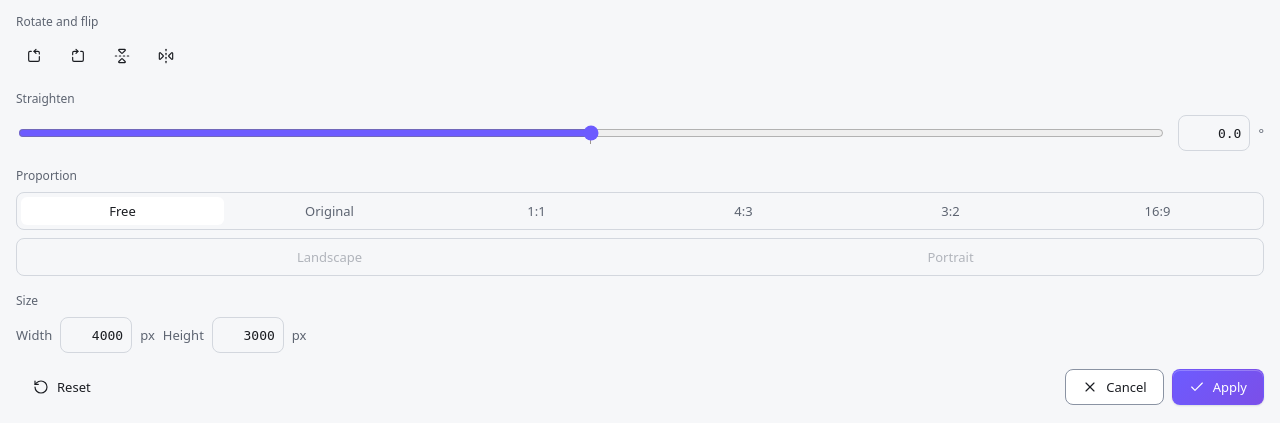
Test: CropRotateControls (SCR-03 panel) › checks a typed angle only on leave or Enter; Enter never applies the tool (AC-07)
Replace the text in the 1st field with "99" at x=1214, y=133, box [1178,115,1250,151]
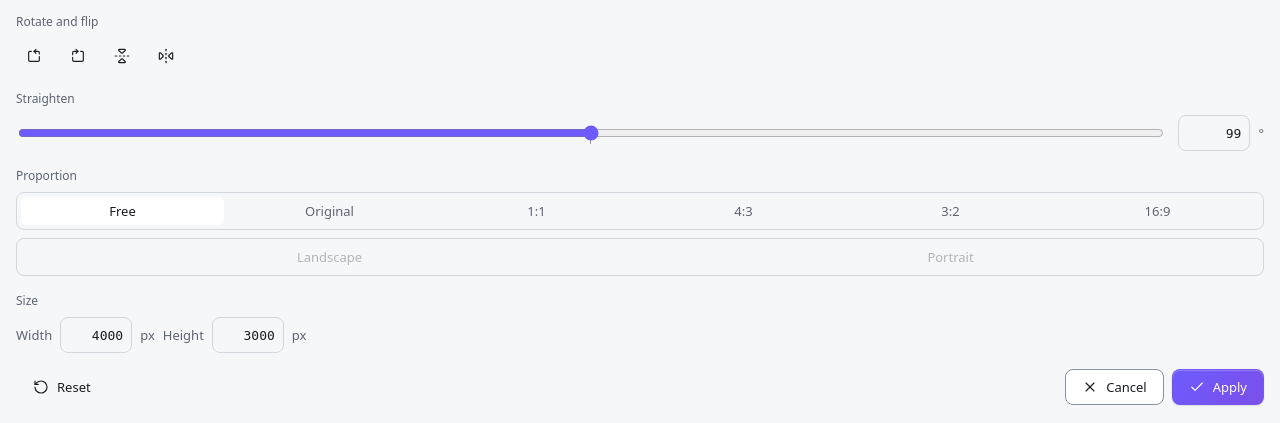
Press Enter in the 1st field, box [1178,115,1250,151]
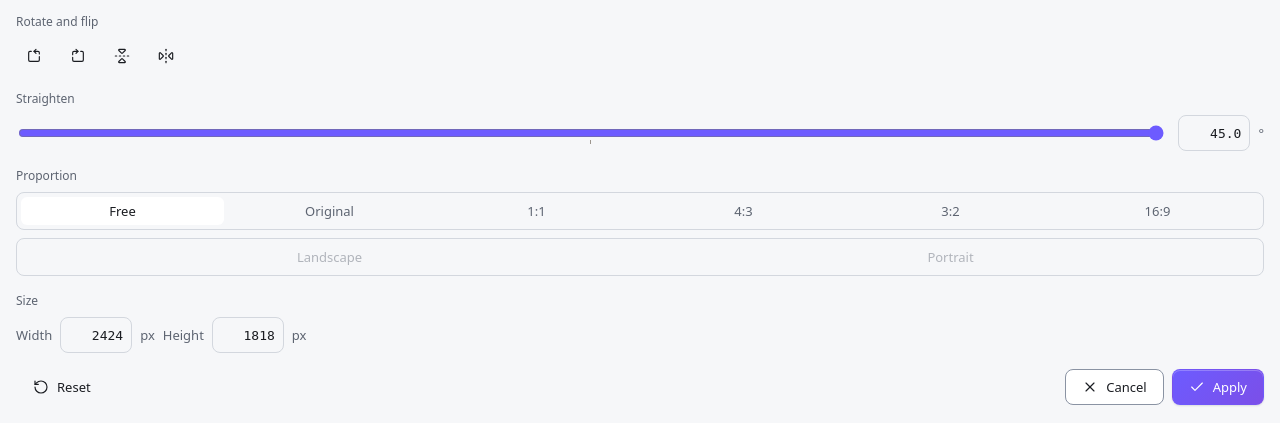
Replace the text in the 1st field with "1e2" at x=1214, y=133, box [1178,115,1250,151]
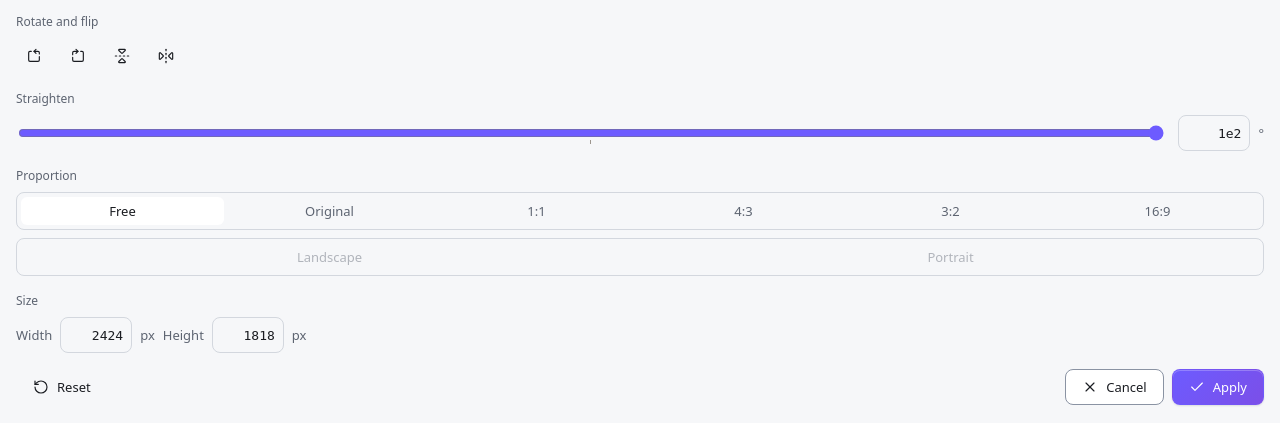
Leave the 1st field, box [1178,115,1250,151]
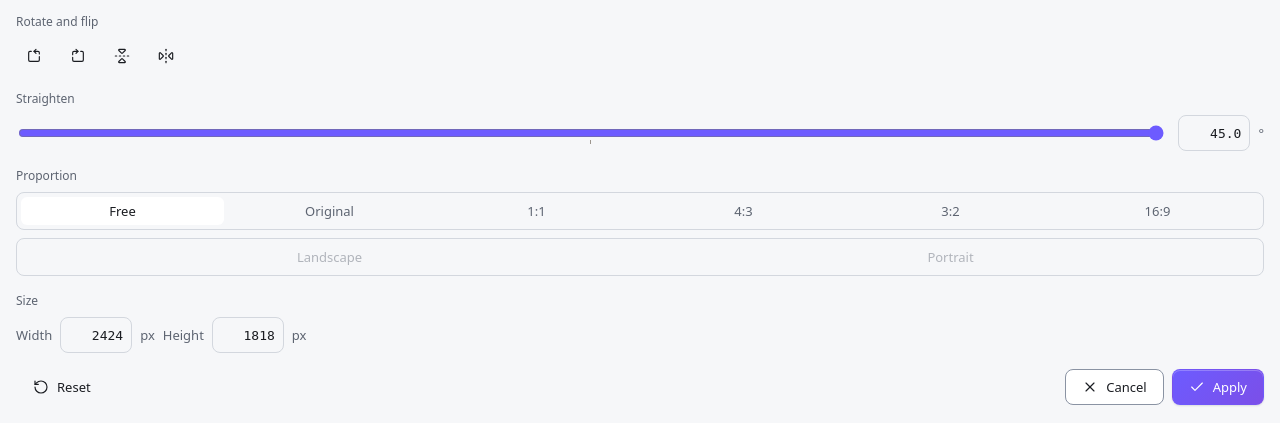
Now the 1st field holds "45.0", box [1178,115,1250,151]
